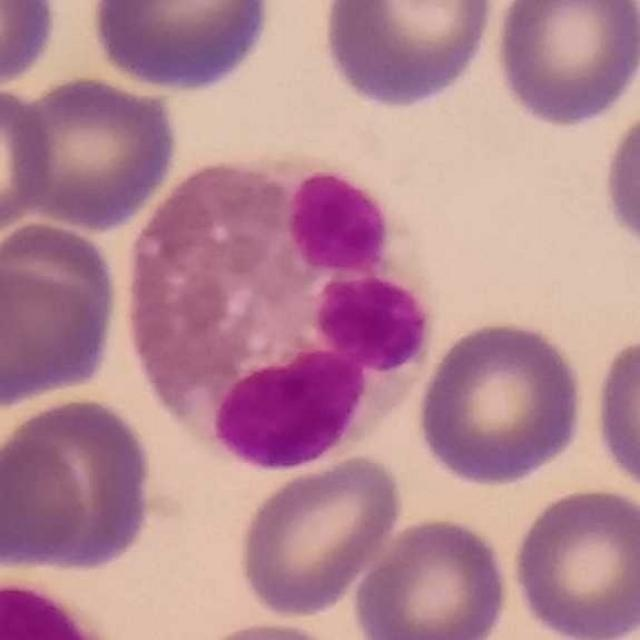eosino: (129, 148, 436, 476)
